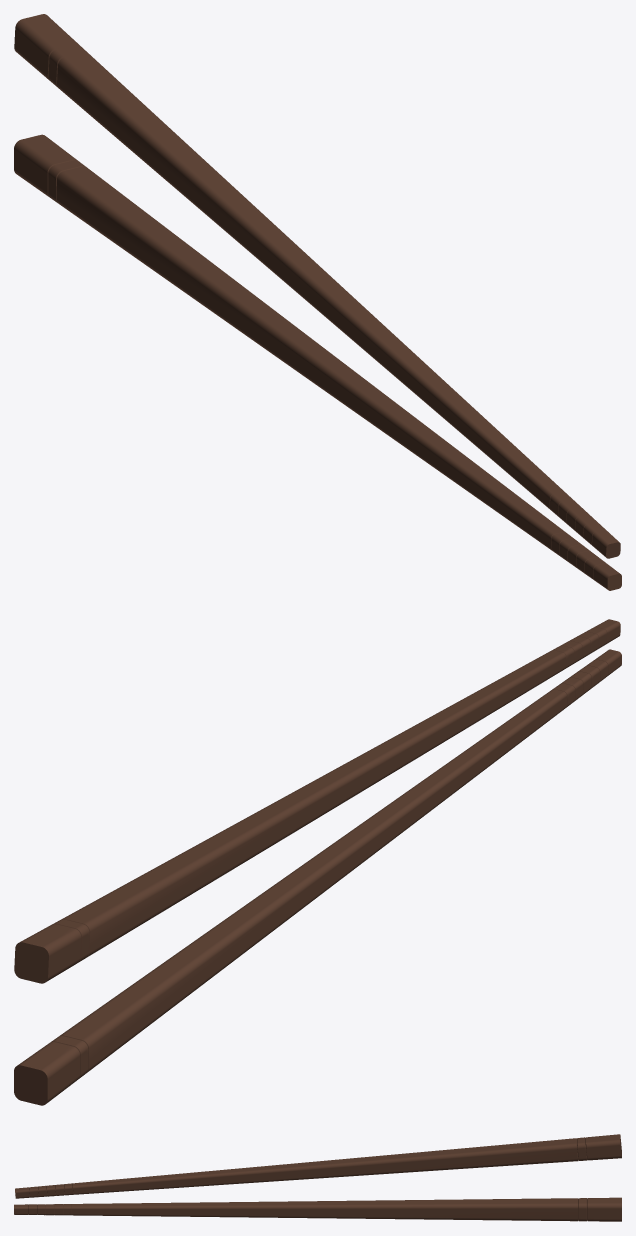
The model's file is Chopsticks.obj.
3 renders of one model, top to bottom at view 1: azimuth 30°, elevation 25°; view 2: azimuth 150°, elevation 25°; view 3: azimuth 270°, elevation 25°, orthographic. The views are drawn at different scales.
Visible parts, largest first — view 1: HaSi.001; view 2: HaSi.001; view 3: HaSi.001.
Part boxes in pixels (x1,y1,x2,y2): HaSi.001: (14, 14, 621, 590); HaSi.001: (14, 619, 621, 1105); HaSi.001: (14, 1134, 621, 1221).
Size of the model in its own units: 0.035 by 0.1559 by 1.05.
